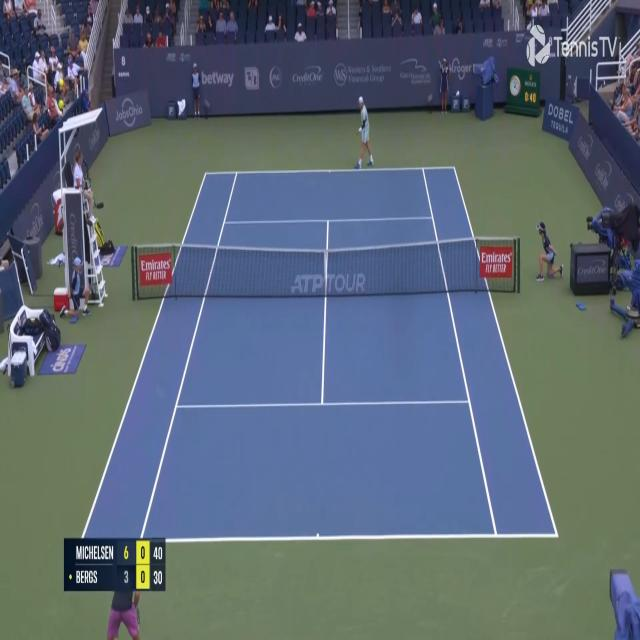tennis-player: (110, 572, 144, 640), (354, 94, 376, 171)
